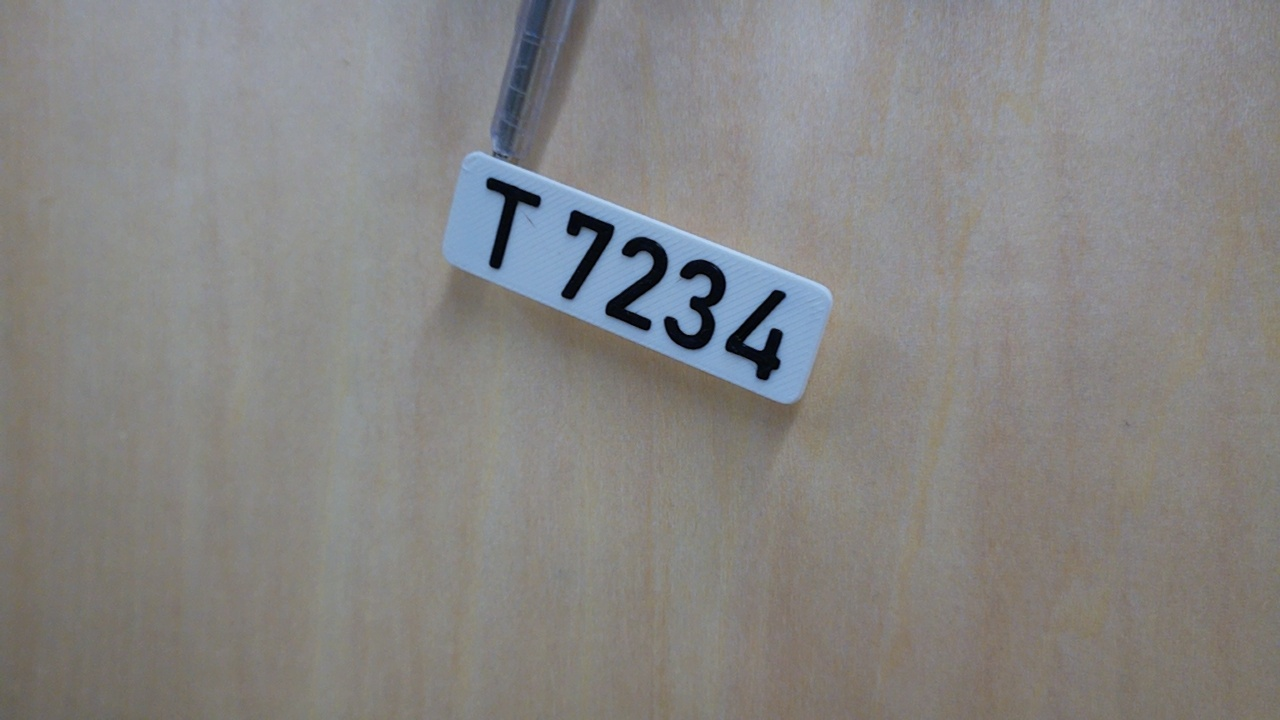license_plate: (437, 147, 837, 408)
